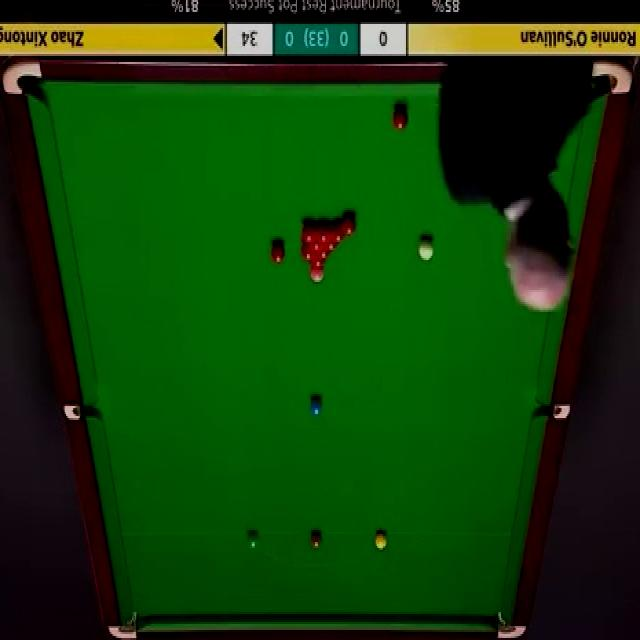blue-ball: (310, 393, 324, 418)
brown-ball: (310, 531, 323, 550)
green-ball: (246, 531, 259, 550)
pink-ball: (309, 265, 324, 284)
red-ball: (271, 238, 286, 266), (393, 108, 410, 132), (300, 221, 317, 245), (331, 220, 347, 243), (342, 212, 356, 236), (316, 223, 331, 243), (300, 242, 316, 260), (316, 244, 332, 261), (307, 235, 324, 249), (324, 235, 336, 251)
white-ball: (418, 234, 434, 262)
yellow-ball: (375, 531, 388, 550)
